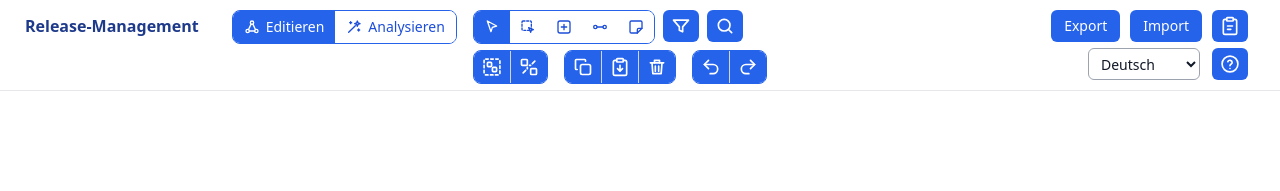
Test: Toolbar › icons and tooltips › explains redo with its shortcut on hover
This screenshot has width=1280, height=191.
Hover over the button named "Wiederholen" at (748, 67), box left=730, top=51, right=766, bottom=83
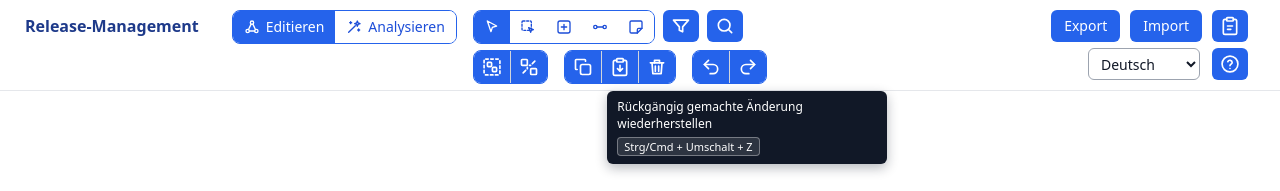
Now the tooltip shows "Strg/Cmd + Umschalt + Z", box left=624, top=139, right=753, bottom=154
